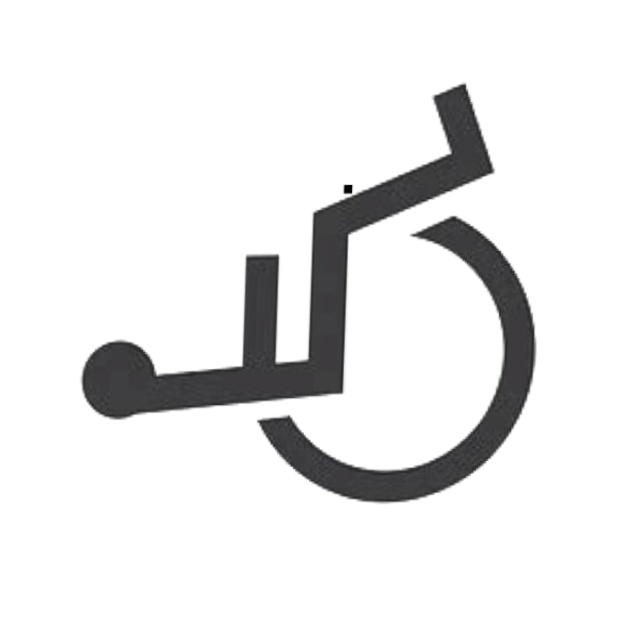ISA: (70, 61, 553, 517)
